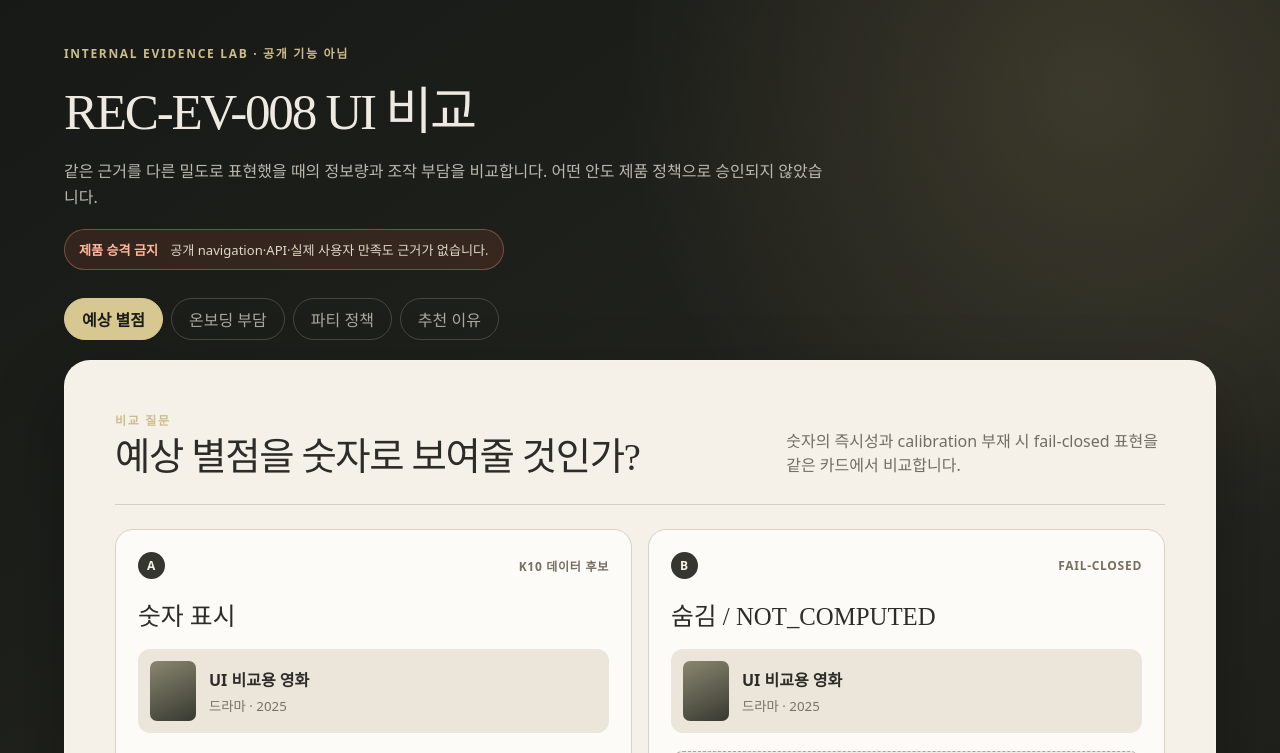
Test case: REC-EV-008 internal evidence lab › K5·K10·skip은 실제 이탈률 대신 최소 조작 수만 비교한다
Click the button "온보딩 부담".
click(228, 319)  # box [171,298,285,340]
(page scrolled)
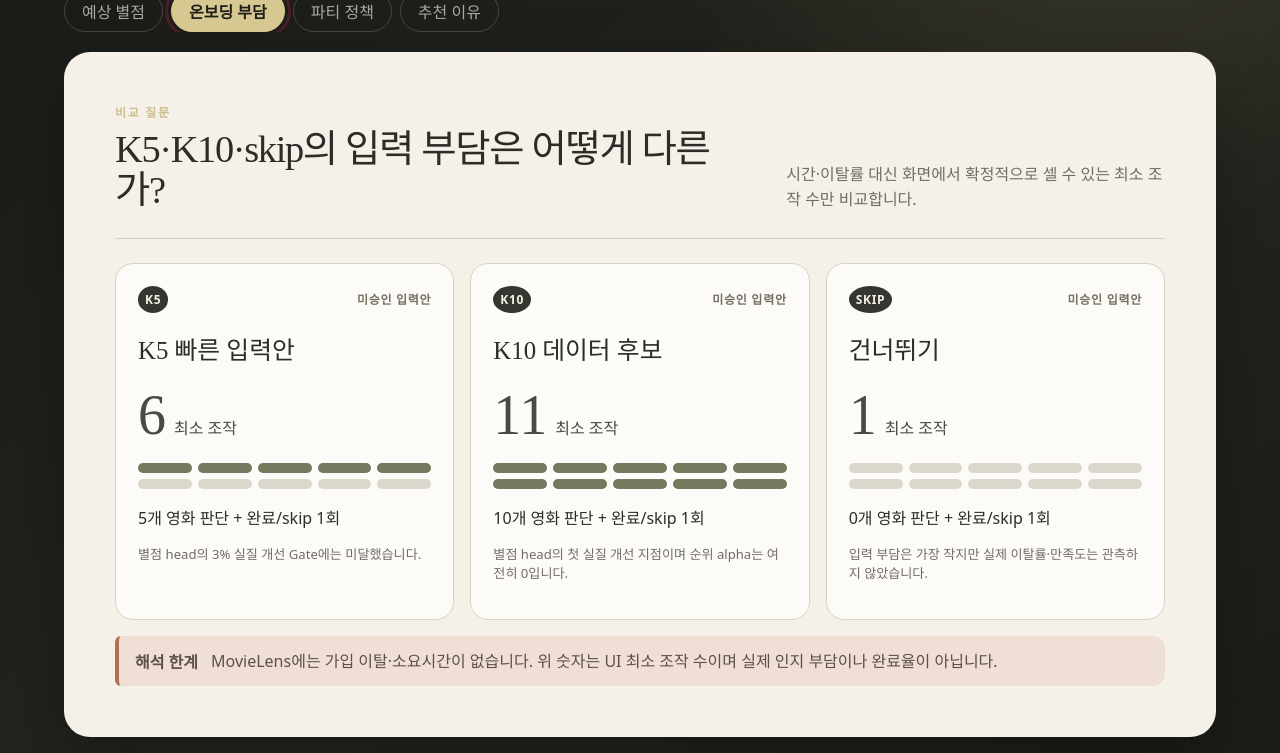
Check: the heading "K5 빠른 입력안" is shown, box [138,337,295,364]
Check: the heading "건너뛰기" is shown, box [849,337,940,364]
Check: the text "최소 조작" is shown 3 times, box [174,415,237,439]; [555,415,618,439]; [885,415,948,439]
